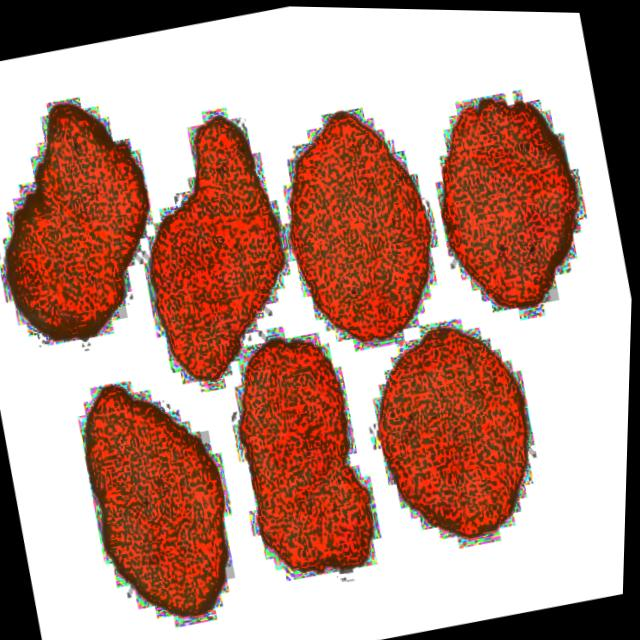chicken_nuggets: (348, 288, 575, 581), (111, 86, 315, 400), (257, 66, 460, 365), (403, 45, 611, 333), (58, 350, 260, 640), (0, 71, 180, 365), (214, 315, 393, 594)
